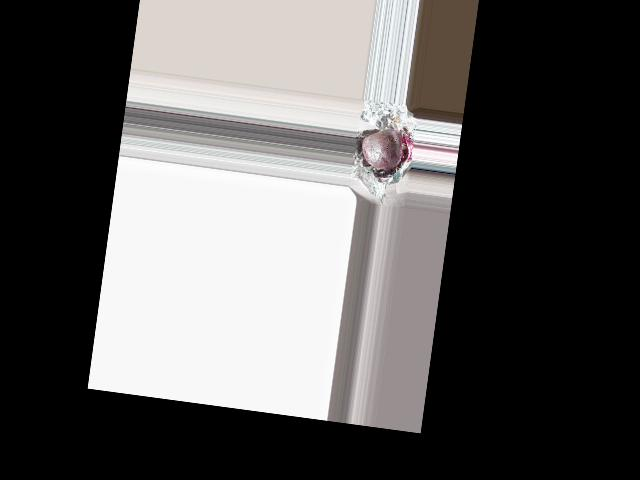beet: (359, 124, 403, 172)
